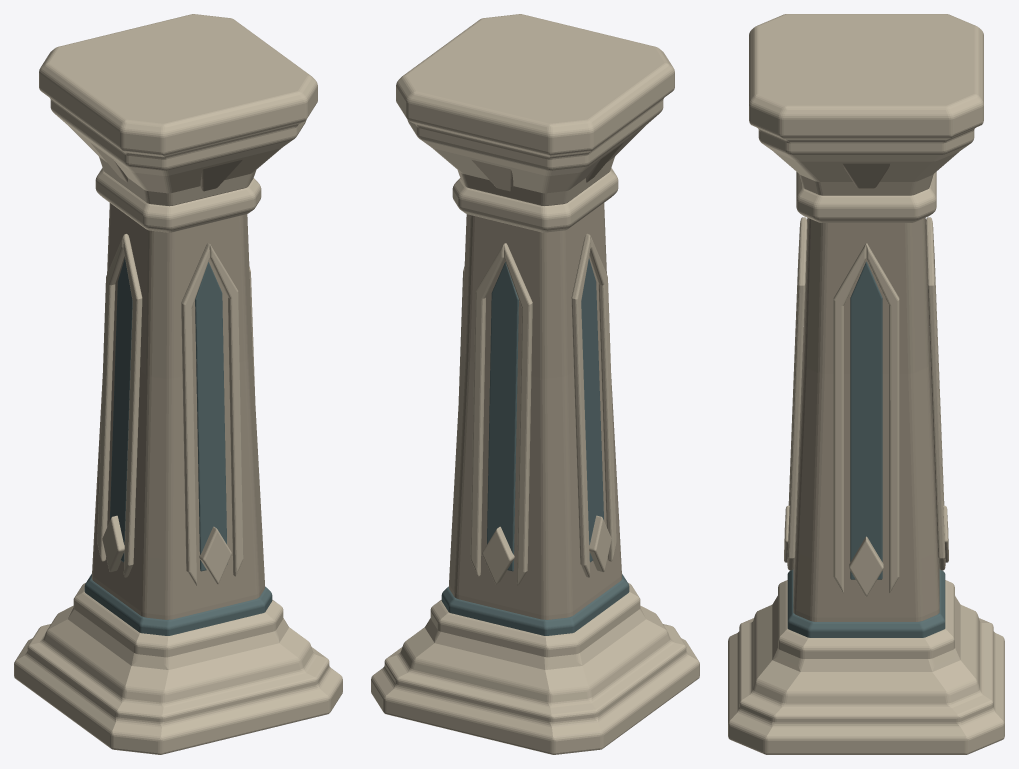
File: FantasyStonePillar.glb
3 views of the same model, side by side, from view 1: azimuth 30°, elevation 25°; view 2: azimuth 150°, elevation 25°; view 3: azimuth 270°, elevation 25° (orthographic). The views are drawn at different scales.
Parts seen in each view (by area): view 1: FantasyStonePillar; view 2: FantasyStonePillar; view 3: FantasyStonePillar.
Part boxes in pixels (<box>): FantasyStonePillar: <box>14,14,342,754</box>; FantasyStonePillar: <box>371,14,699,754</box>; FantasyStonePillar: <box>728,14,1004,754</box>.
Bounding box in the file's own units: 1.72 × 4.37 × 1.72.
